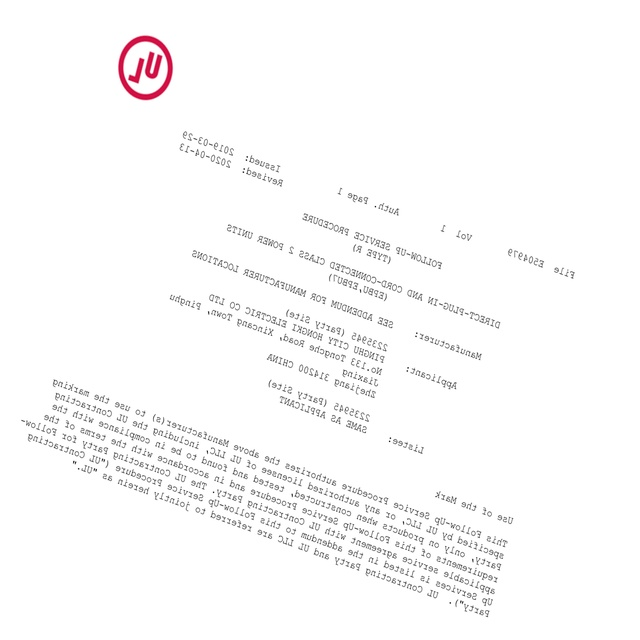ul: (118, 35, 173, 99)
